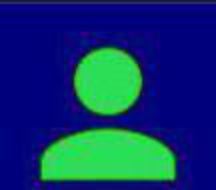ImgButton: (1, 1, 215, 189)
